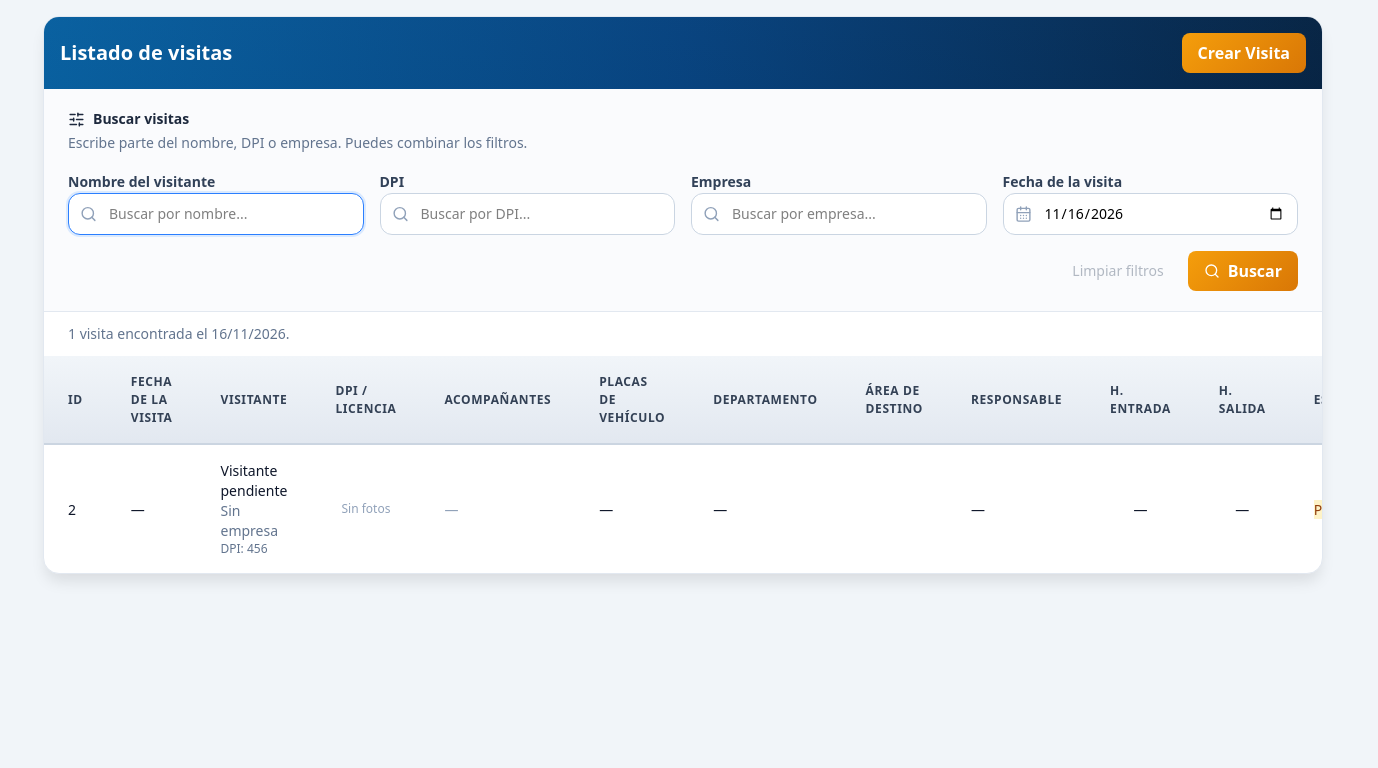
Test: vigencia del estado de las visitas › mantiene el buscador disponible si falla una consulta y permite buscar de nuevo
Type "V" into the field with placeholder "Buscar por nombre..." at (216, 214), box [68,193,364,235]
Wait 450 ms
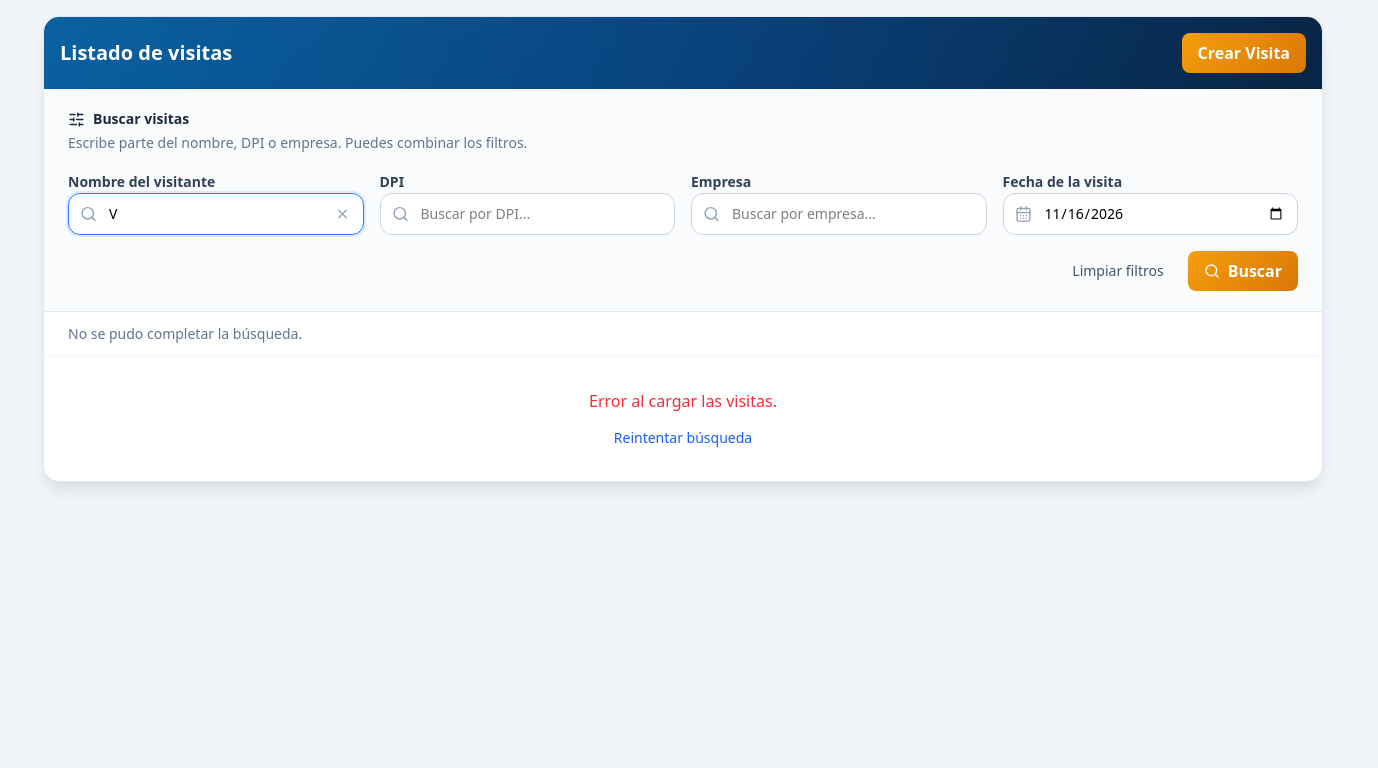
Result: the message "Error al cargar las visitas." is shown at [589,390,777,412]
Replace the text in the field with placeholder "Buscar por nombre..." with "Victor" at (216, 214), box [68,193,364,235]
Wait 450 ms
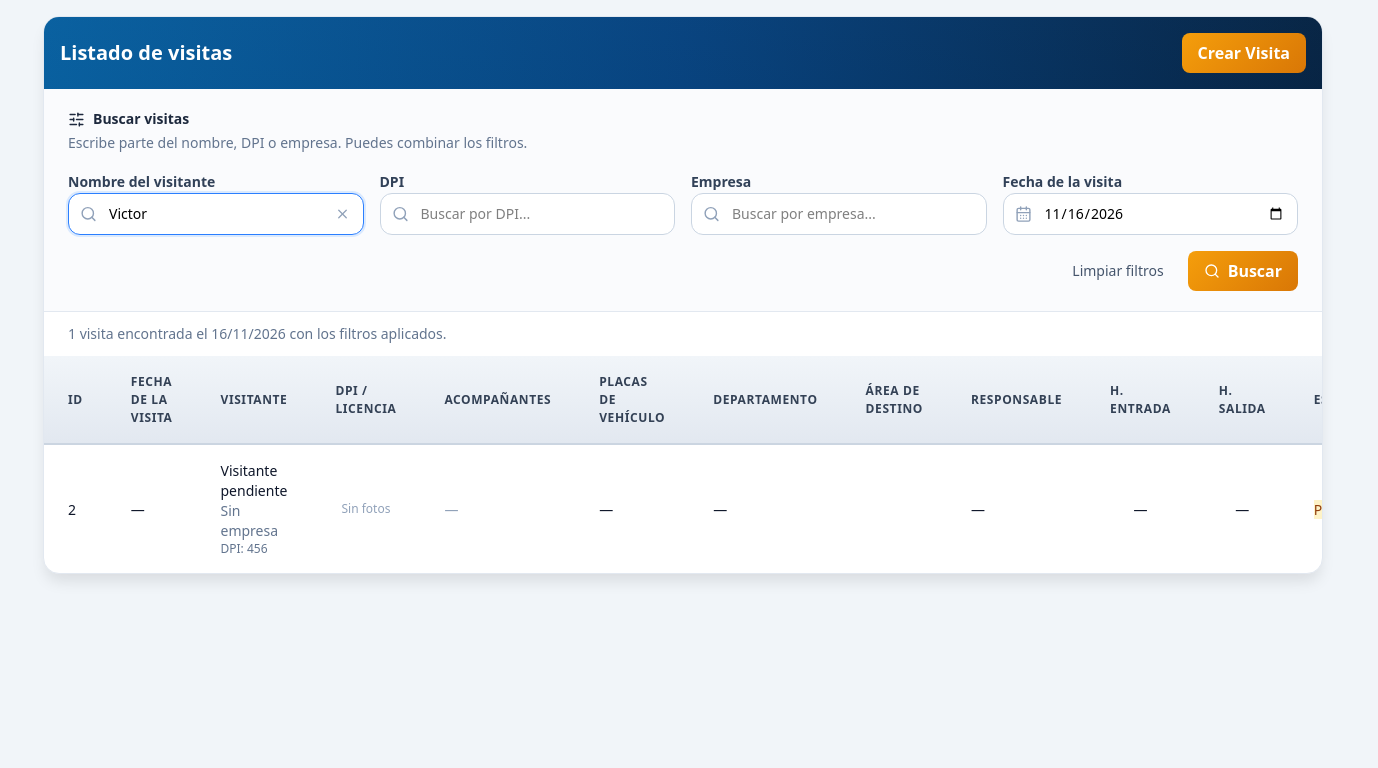
Result: the message "Error al cargar las visitas." is gone
